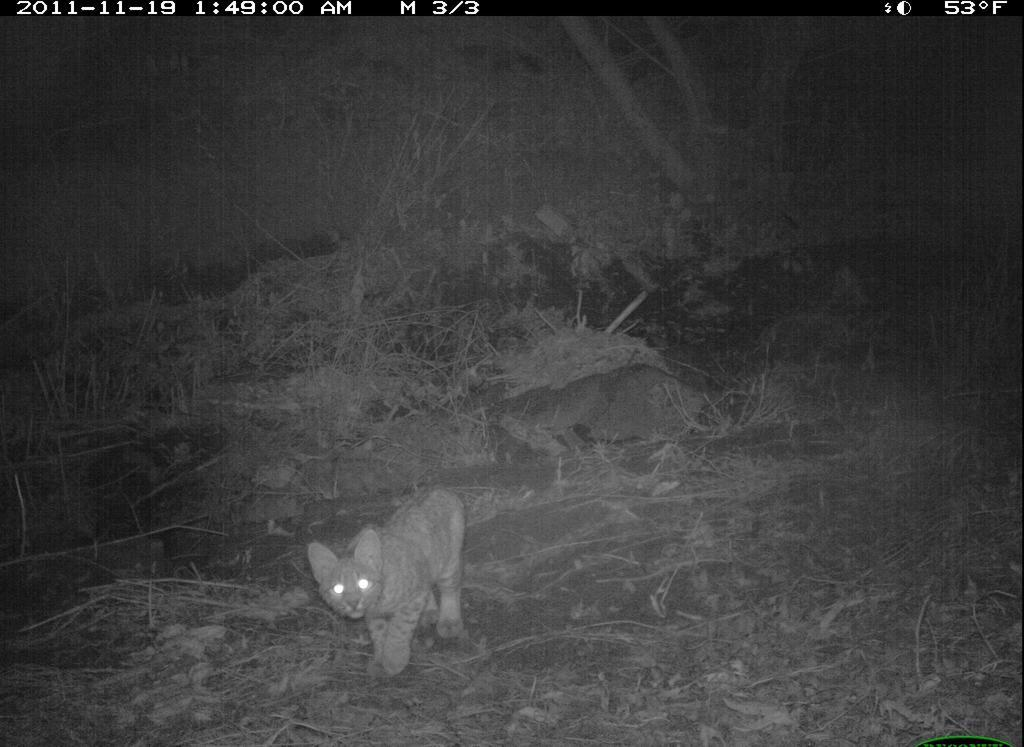bobcat: (301, 481, 498, 687)
